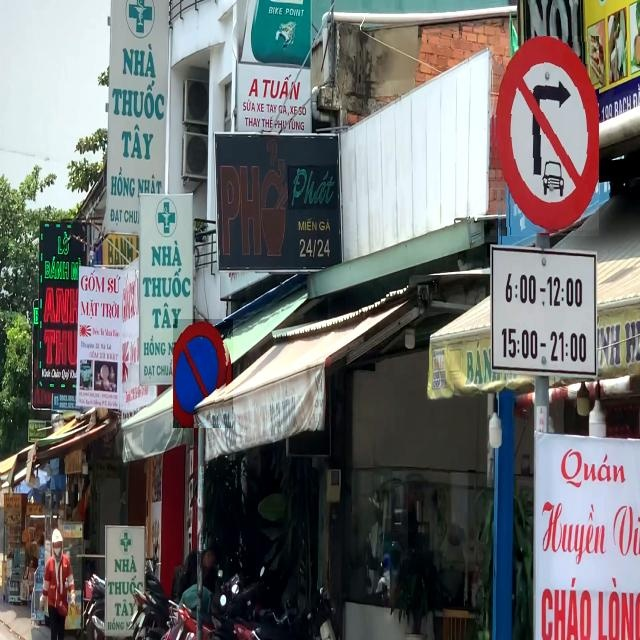bien_cam: (490, 36, 599, 236), (173, 319, 233, 428)
